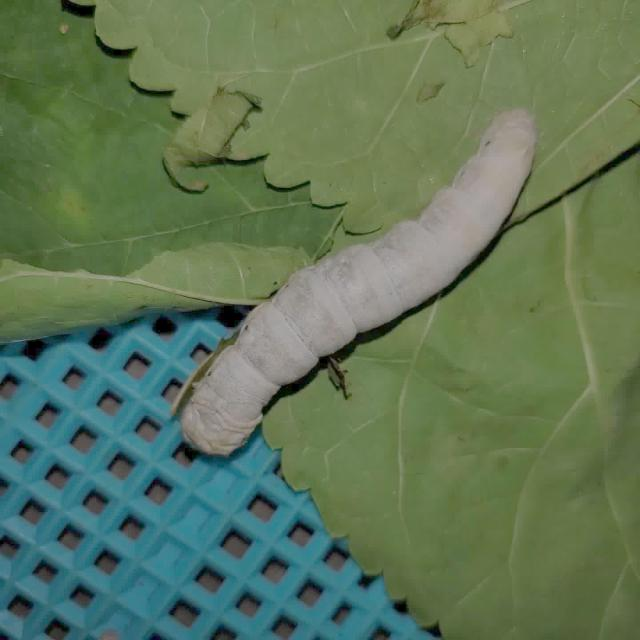Grasserie: (172, 97, 548, 471)
